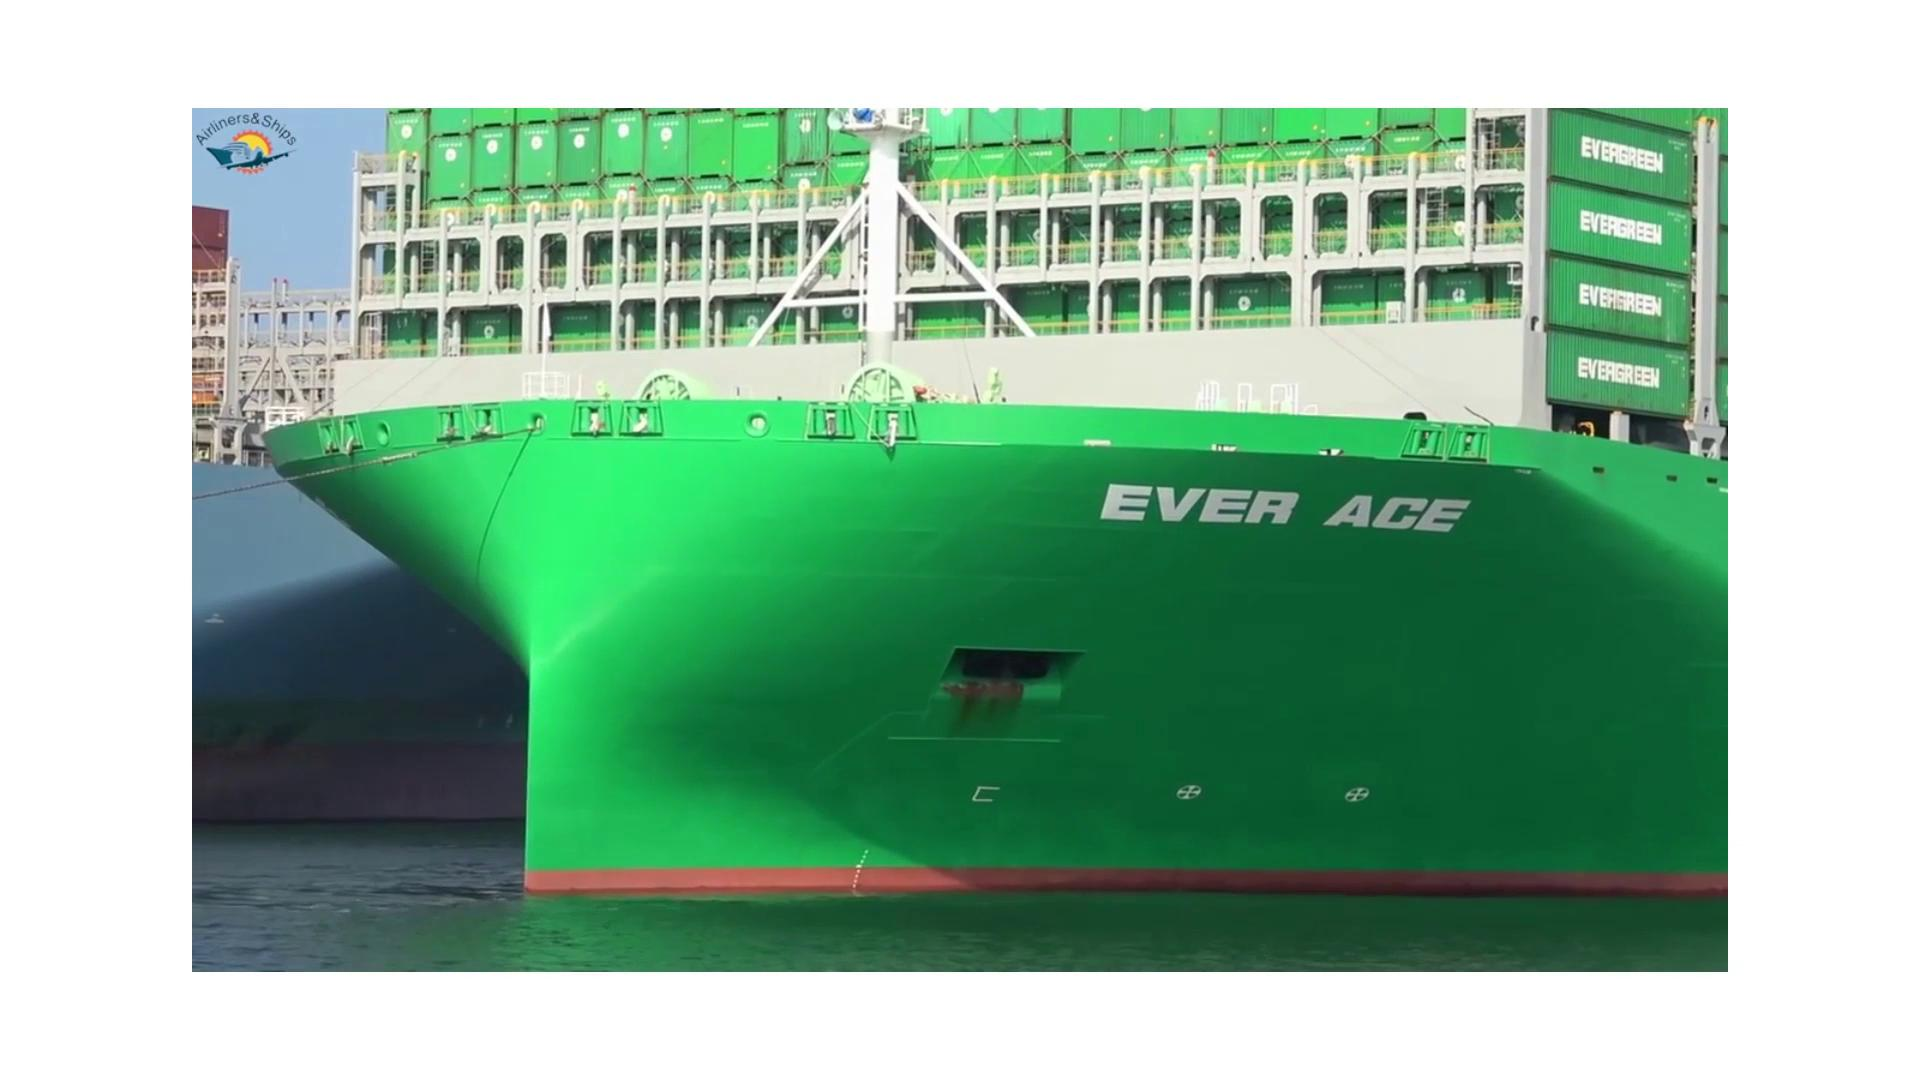OCR: (1040, 459, 1480, 575)
